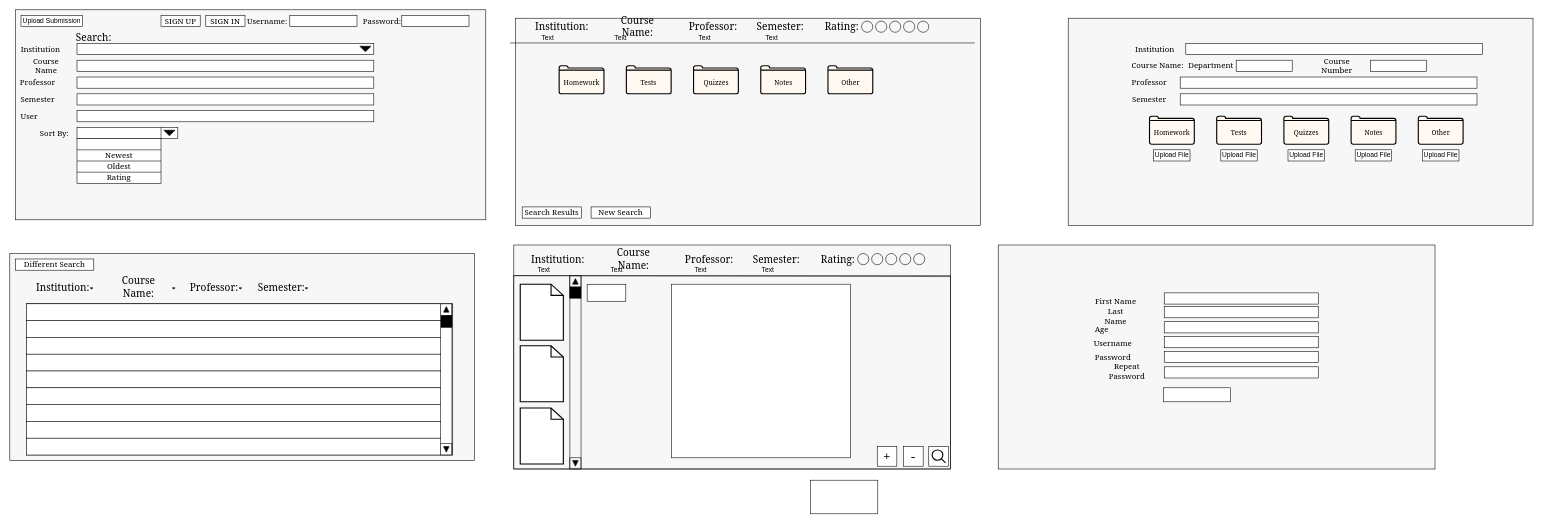
Some shapes in this 1543 by 524 pixel diagram are drawn without their labels. Each missing label, with the centre of its shape:
"Back to Folders" goes at point (606, 293).
"Create Account" goes at point (1197, 394).
